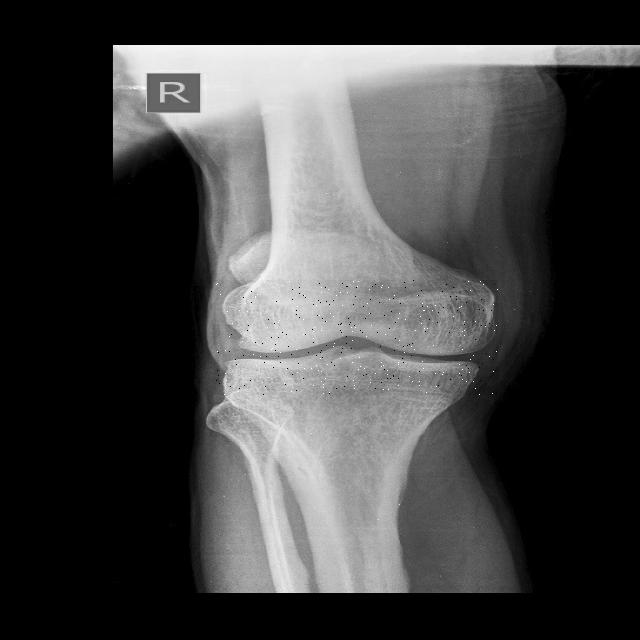osteo: (214, 280, 498, 395)
